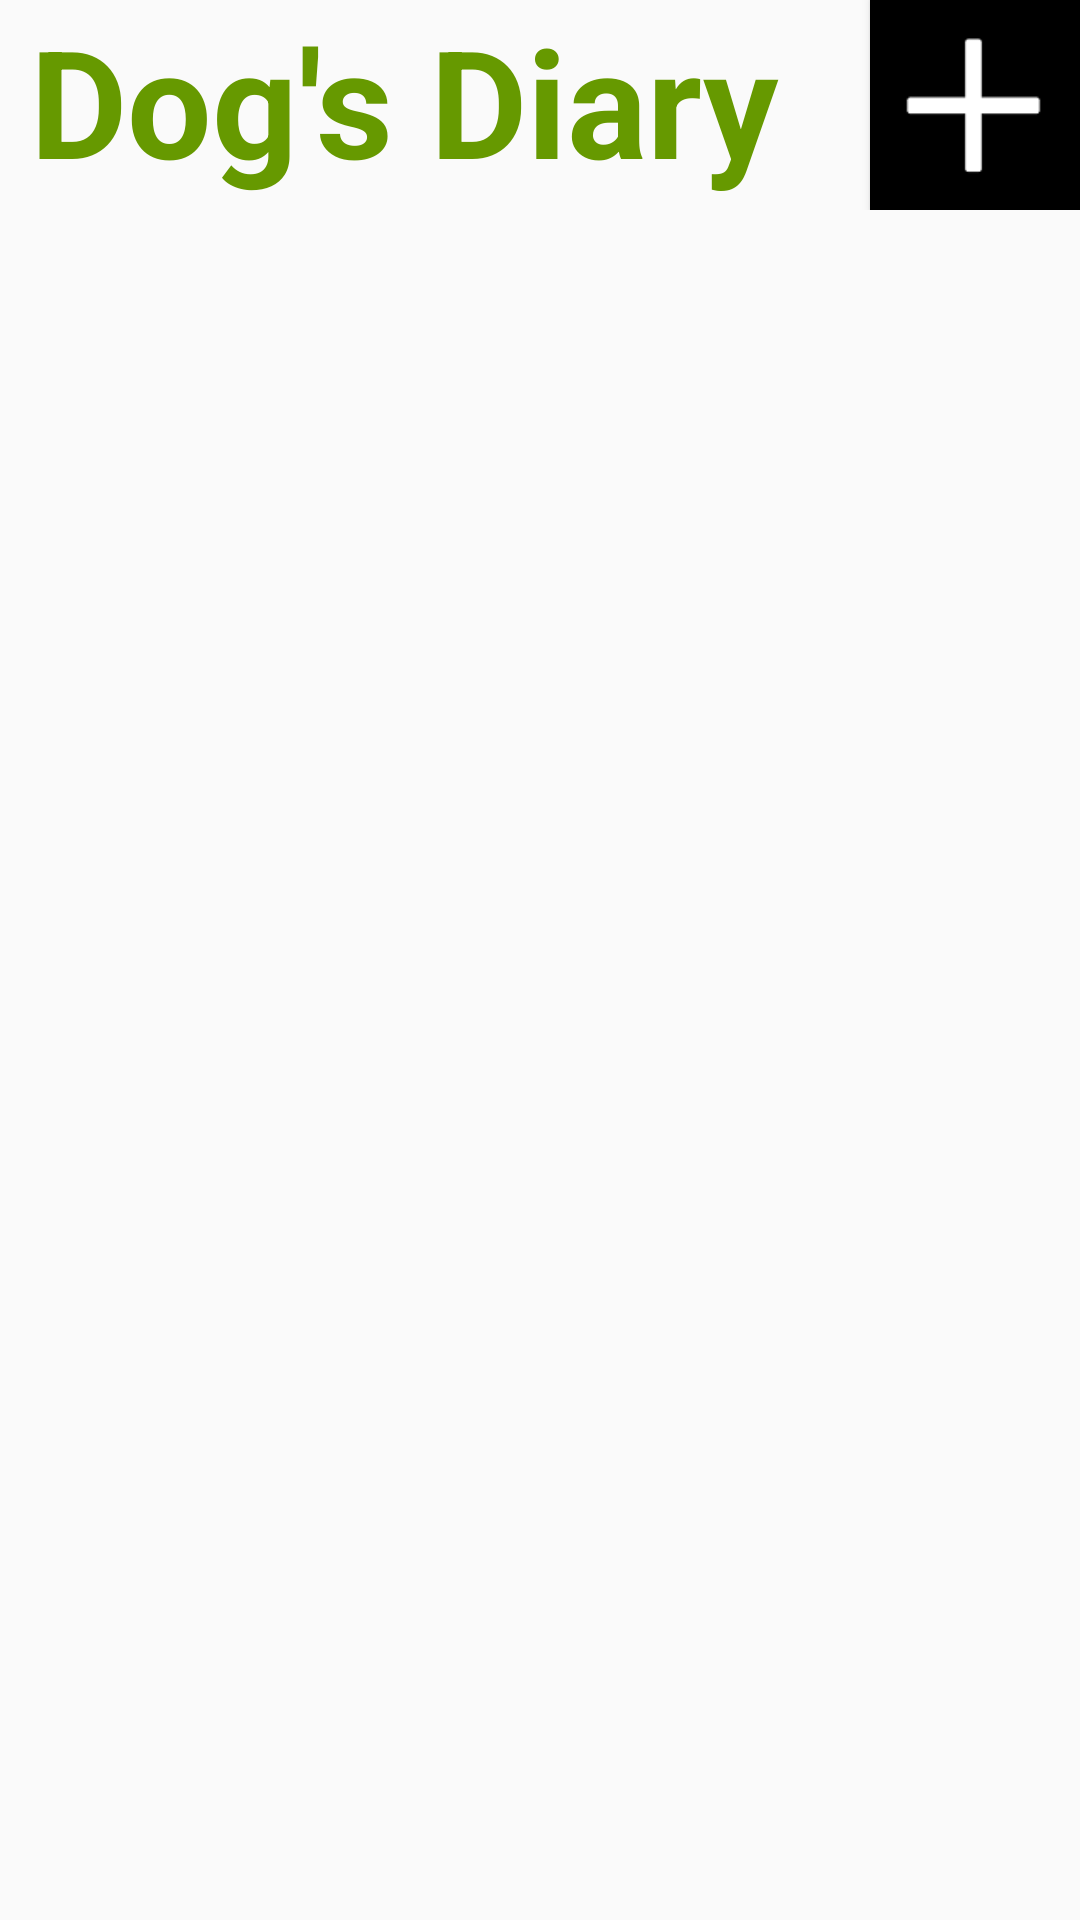

Icon bounding boxes for this 1080 × 1920 phone screenshot, format [x1=x1, y1=y1, x2=x2, y2=y2]:
plus: [x1=870, y1=0, x2=1080, y2=210]
